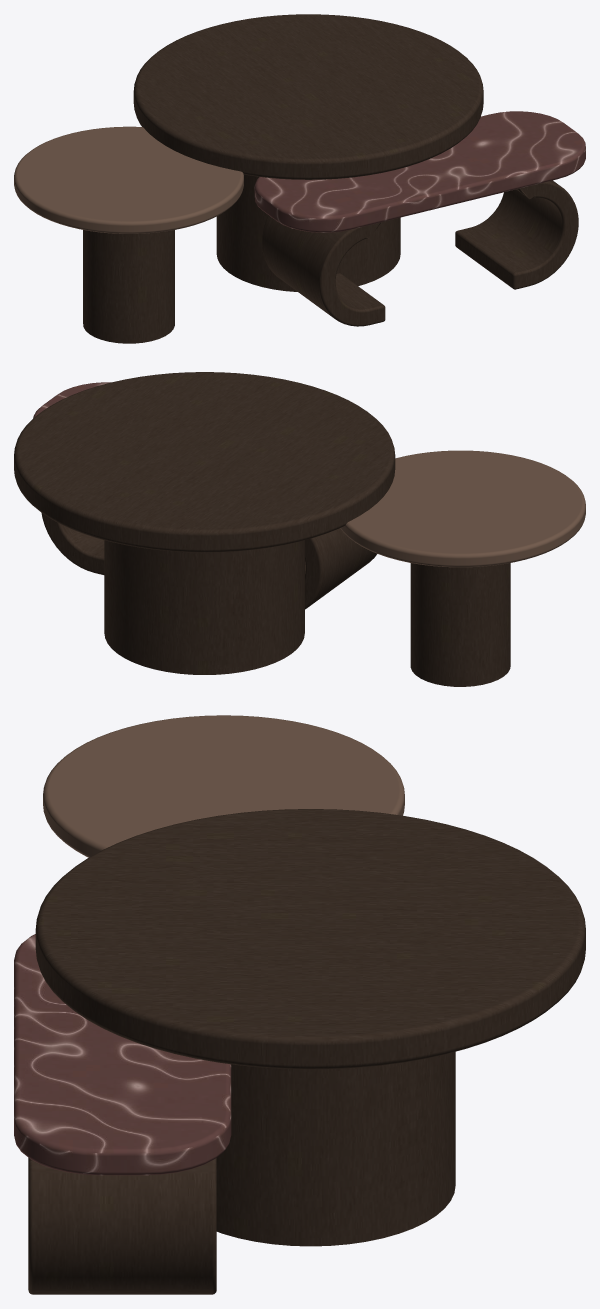
The model's file is petra-3in1-center-table.glb.
The picture shows the model from 3 angles, top to bottom: view 1: azimuth 30°, elevation 25°; view 2: azimuth 150°, elevation 25°; view 3: azimuth 270°, elevation 25°; orthographic projection. The views are drawn at different scales.
Visible parts, largest first — view 1: bigtop, bench, smalltop, smallbase, cleg1, cleg-1, bigbase; view 2: bigtop, bigbase, smalltop, smallbase, cleg-1, cleg1, bench; view 3: bigtop, bigbase, smalltop, bench, cleg1.
Boxes of the visible parts, x1=… form: bigtop: x1=133, y1=14, x2=483, y2=179; bench: x1=254, y1=111, x2=585, y2=232; smalltop: x1=14, y1=126, x2=243, y2=233; smallbase: x1=83, y1=230, x2=174, y2=343; cleg1: x1=455, y1=180, x2=578, y2=289; cleg-1: x1=262, y1=215, x2=385, y2=326; bigbase: x1=216, y1=174, x2=400, y2=291; bigtop: x1=14, y1=372, x2=395, y2=552; bigbase: x1=104, y1=540, x2=304, y2=674; smalltop: x1=340, y1=450, x2=585, y2=567; smallbase: x1=410, y1=563, x2=510, y2=686; cleg-1: x1=305, y1=528, x2=377, y2=609; cleg1: x1=41, y1=513, x2=104, y2=574; bench: x1=33, y1=382, x2=110, y2=418; bigtop: x1=35, y1=809, x2=585, y2=1069; bigbase: x1=216, y1=1051, x2=455, y2=1246; smalltop: x1=43, y1=715, x2=404, y2=857; bench: x1=14, y1=934, x2=231, y2=1175; cleg1: x1=28, y1=1157, x2=216, y2=1294.
Size of the model in its own units: 1.28 by 0.4 by 0.79.
3 materials, 2 textured.
